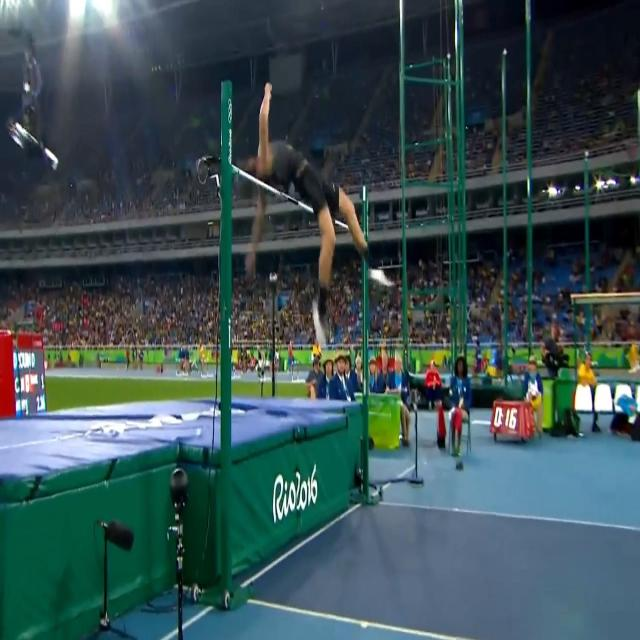jump: (238, 79, 394, 350)
